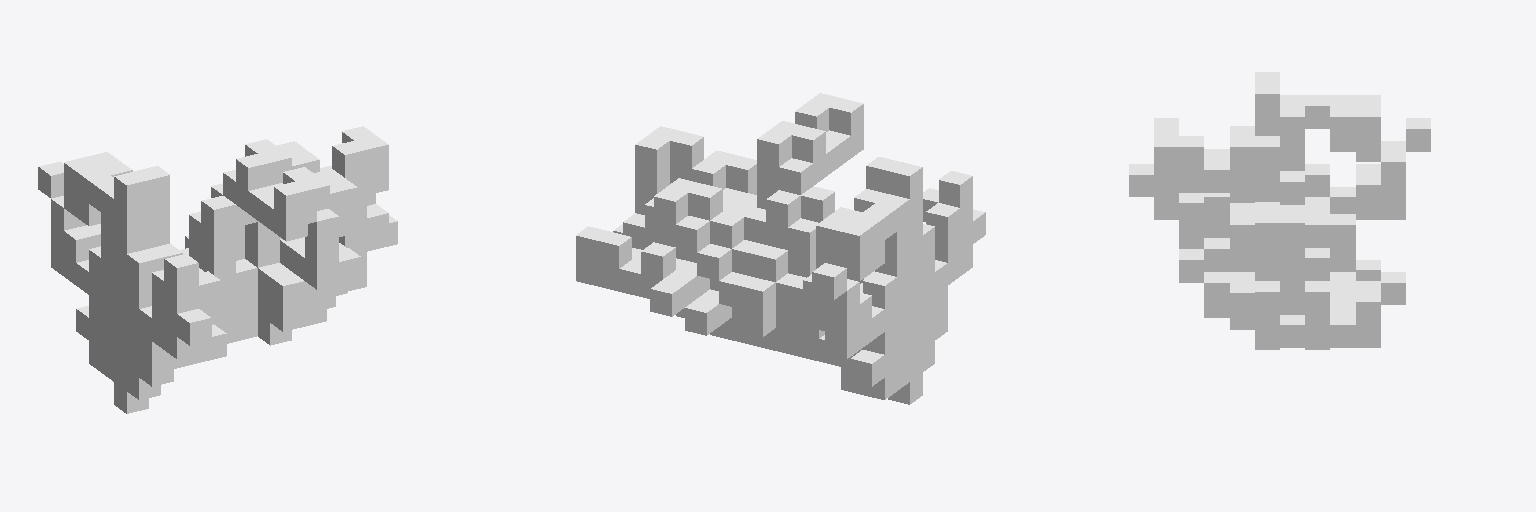
Rendered from JungleTreeSide.obj.
The picture shows the model from 3 angles: view 1: azimuth 30°, elevation 25°; view 2: azimuth 150°, elevation 25°; view 3: azimuth 270°, elevation 25°; orthographic projection.
Bounding box in the file's own units: 13 × 10 × 12.